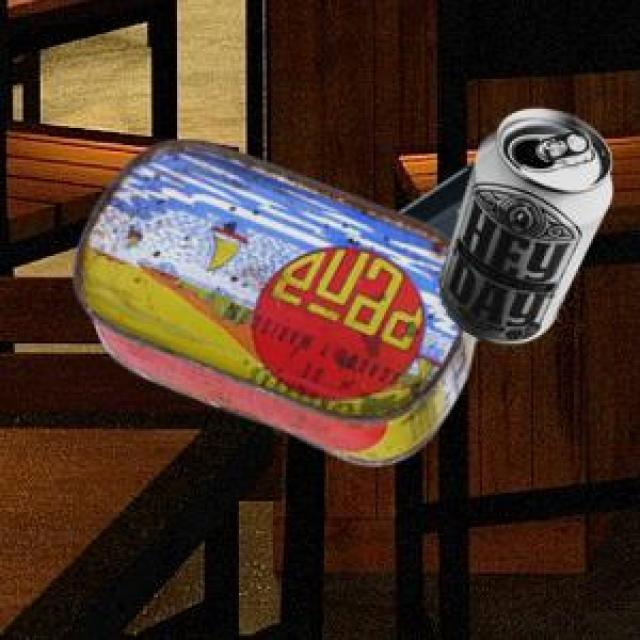logam: (71, 138, 470, 462), (436, 106, 609, 340), (396, 161, 469, 238)
